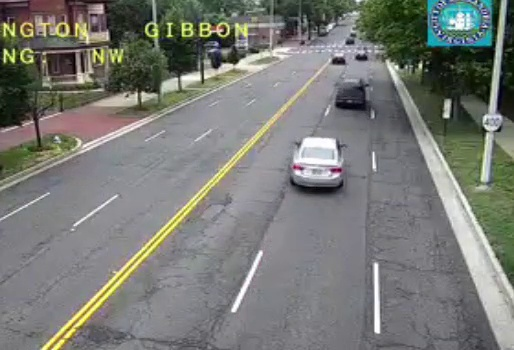car: (291, 137, 345, 188), (334, 79, 366, 106)
